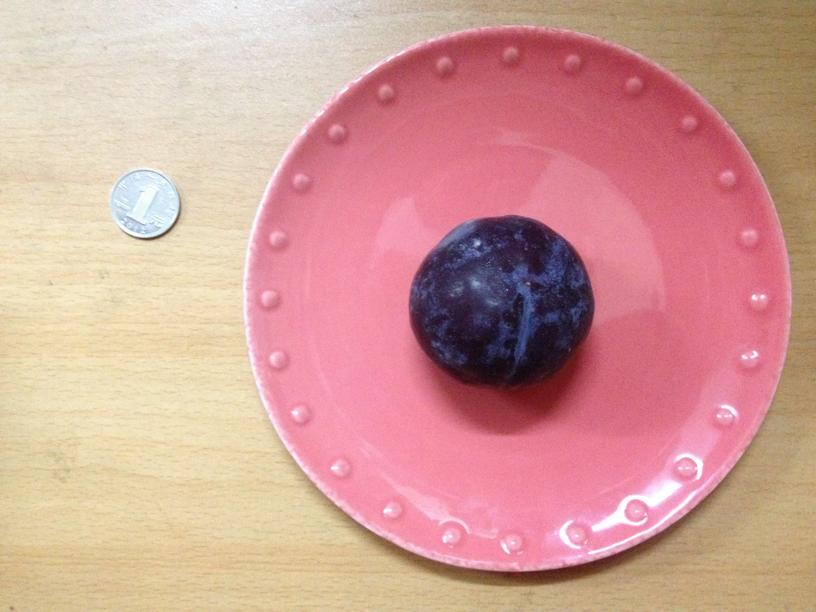coin: (108, 167, 181, 240)
plum: (408, 217, 594, 390)
